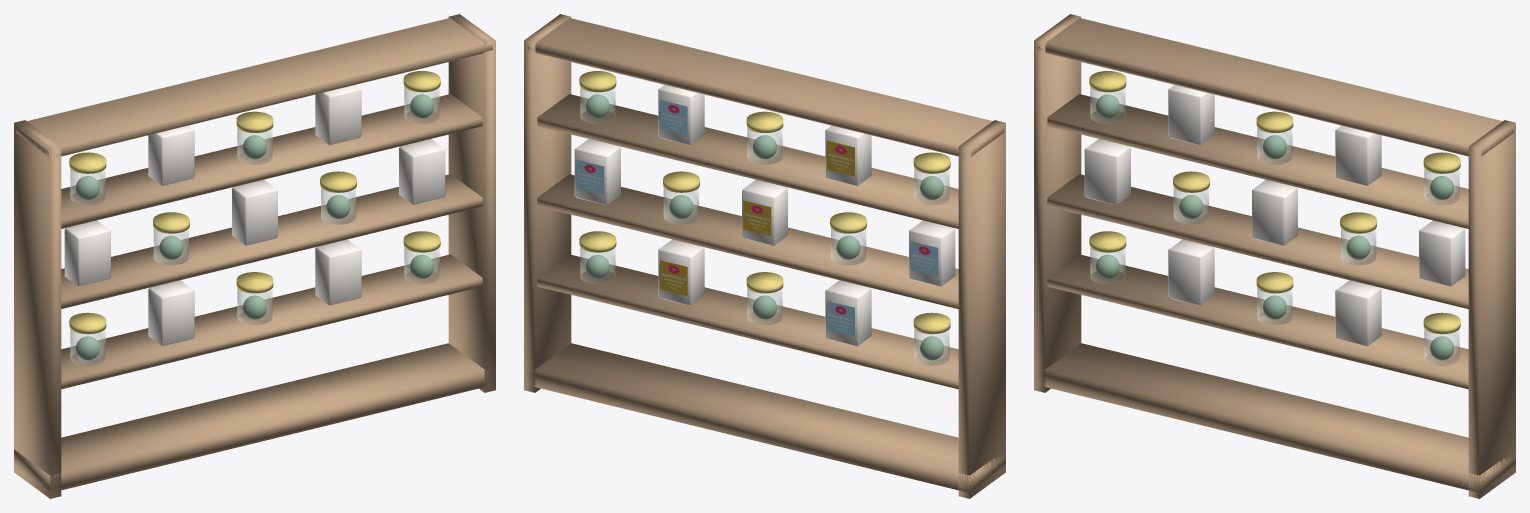
Rendered from wall_shelf.glb.
3 renders of one model, left to right at view 1: azimuth 30°, elevation 25°; view 2: azimuth 150°, elevation 25°; view 3: azimuth 330°, elevation 25°, orthographic.
Parts seen in each view (by area): view 1: sh_base, sh_top, sh_side_l, sh_shelf_0, sh_shelf_2, sh_shelf_1, sh_side_r, sbox_0_1, sbox_1_0, sbox_0_3, sbox_1_4, sbox_1_2 (+18 smaller); view 2: sh_base, sh_top, sh_side_l, sh_shelf_0, sh_shelf_2, sh_shelf_1, sh_side_r, sbox_0_3, sbox_1_0, sbox_1_4, sbox_0_1, sbox_1_2 (+25 smaller); view 3: sh_base, sh_top, sh_side_r, sh_shelf_0, sh_shelf_2, sh_shelf_1, sh_side_l, sbox_0_3, sbox_1_4, sbox_0_1, sbox_1_0, sbox_1_2 (+18 smaller).
Part boxes in pixels (x1,y1,x2,y2): sh_base: (14, 343, 494, 492); sh_top: (15, 18, 492, 156); sh_side_l: (14, 120, 61, 498); sh_shelf_0: (61, 254, 482, 389); sh_shelf_2: (61, 94, 482, 228); sh_shelf_1: (61, 174, 482, 308); sh_side_r: (448, 14, 495, 392); sbox_0_1: (148, 280, 194, 346); sbox_1_0: (64, 220, 110, 286); sbox_0_3: (315, 239, 361, 305); sbox_1_4: (399, 139, 445, 204); sbox_1_2: (232, 179, 277, 245); sh_base: (524, 343, 1005, 492); sh_top: (527, 18, 1004, 156); sh_side_l: (958, 120, 1005, 498); sh_shelf_0: (537, 254, 958, 389); sh_shelf_2: (537, 94, 958, 228); sh_shelf_1: (537, 174, 958, 308); sh_side_r: (524, 14, 571, 392); sbox_0_3: (658, 239, 704, 305); sbox_1_0: (909, 220, 955, 286); sbox_1_4: (574, 139, 620, 204); sbox_0_1: (825, 280, 871, 346); sbox_1_2: (742, 179, 787, 245); sh_base: (1034, 343, 1515, 492); sh_top: (1037, 18, 1514, 156); sh_side_r: (1468, 120, 1515, 498); sh_shelf_0: (1047, 254, 1468, 389); sh_shelf_2: (1047, 94, 1468, 228); sh_shelf_1: (1047, 174, 1468, 308); sh_side_l: (1034, 14, 1081, 392); sbox_0_3: (1335, 280, 1381, 346); sbox_1_4: (1419, 220, 1465, 286); sbox_0_1: (1168, 239, 1214, 305); sbox_1_0: (1084, 139, 1130, 204); sbox_1_2: (1252, 179, 1297, 245).
Bounding box in the file's own units: 3.2 × 2.4 × 0.45.
Materials: 12 (7 with a texture image).
